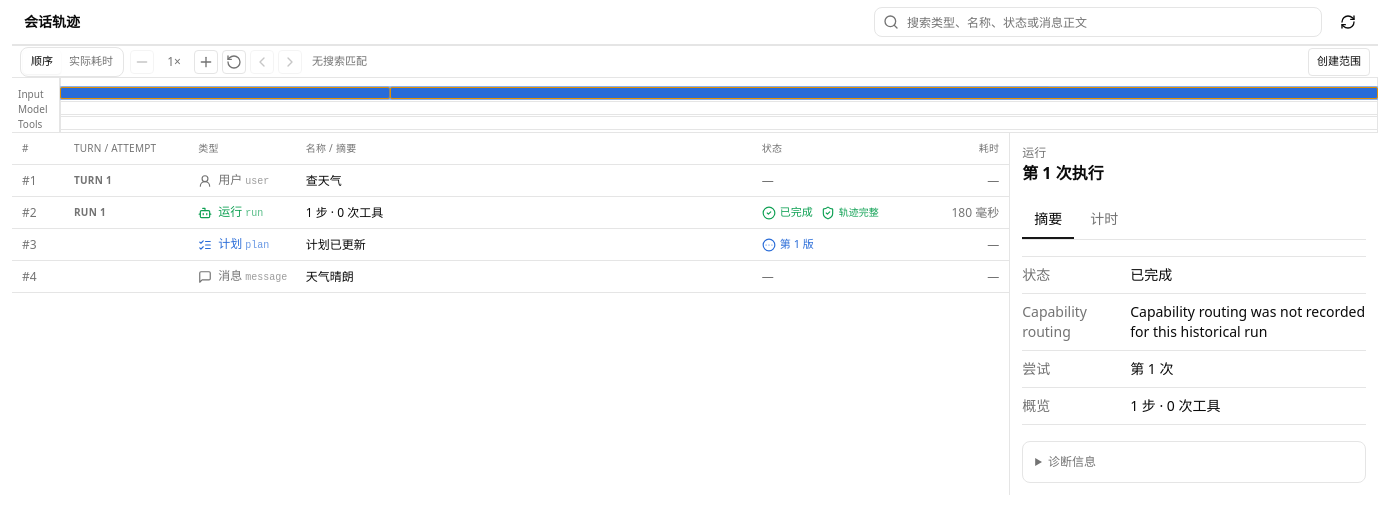
Test: TrajectoryTabView › Plan 行即使记录被 Step span 覆盖也保持本地 Plan 详情与 span=null
Click the option "#3 计划 plan 计划已更新 第 1 版 —". click: (89, 250)
box: [12,229,1009,261]
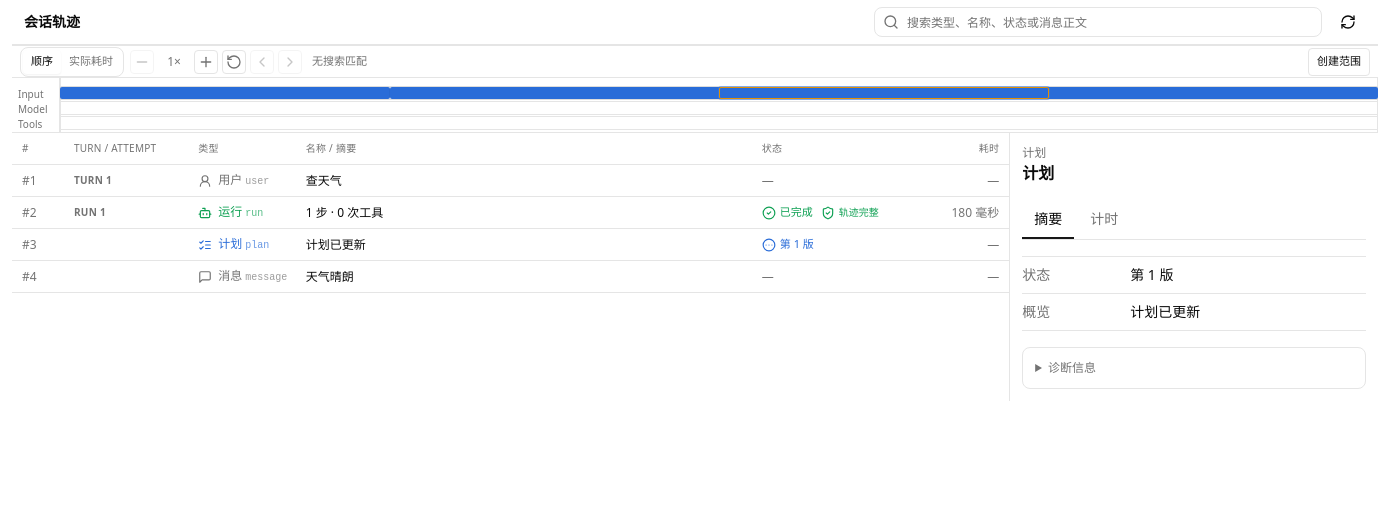
Result: the heading "计划" is shown at [1022,162,1054,184]
